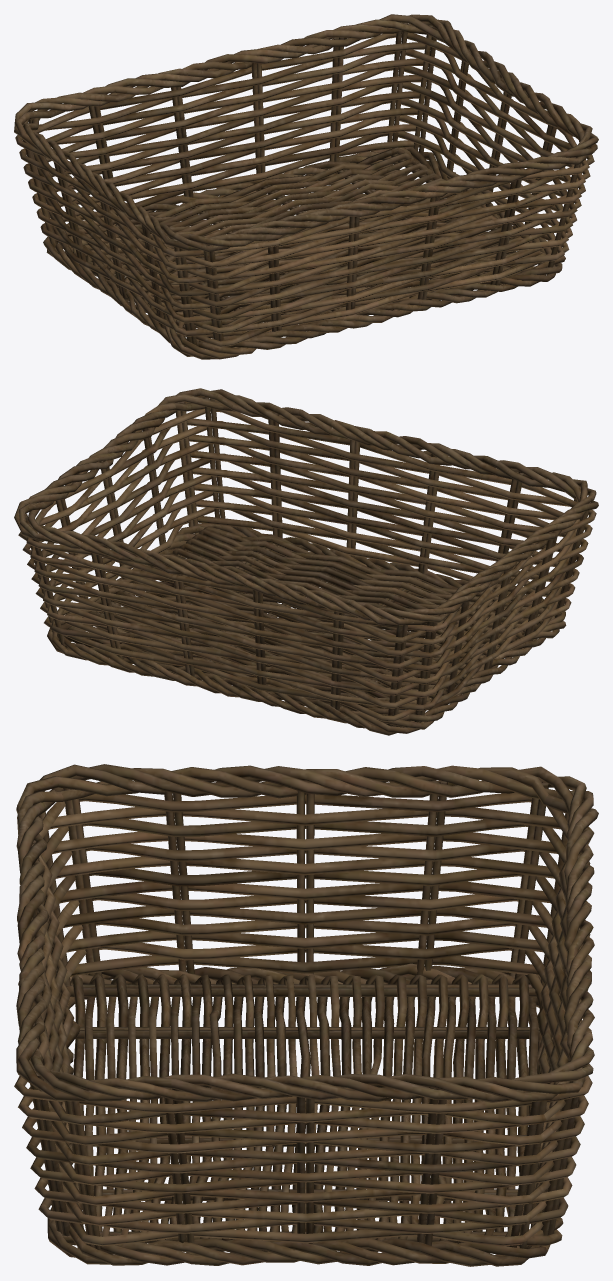
Rendered from wicker_basket_01.glb.
3 views of the same model, one above another, from view 1: azimuth 30°, elevation 25°; view 2: azimuth 150°, elevation 25°; view 3: azimuth 270°, elevation 25° (orthographic). The views are drawn at different scales.
Parts seen in each view (by area): view 1: wicker_basket_01; view 2: wicker_basket_01; view 3: wicker_basket_01.
Part boxes in pixels (x1,y1,x2,y2): wicker_basket_01: [14, 14, 598, 359]; wicker_basket_01: [14, 388, 598, 735]; wicker_basket_01: [14, 764, 598, 1266].
Size of the model in its own units: 0.3832 by 0.1174 by 0.295.
Materials: 1 (1 with a texture image).
